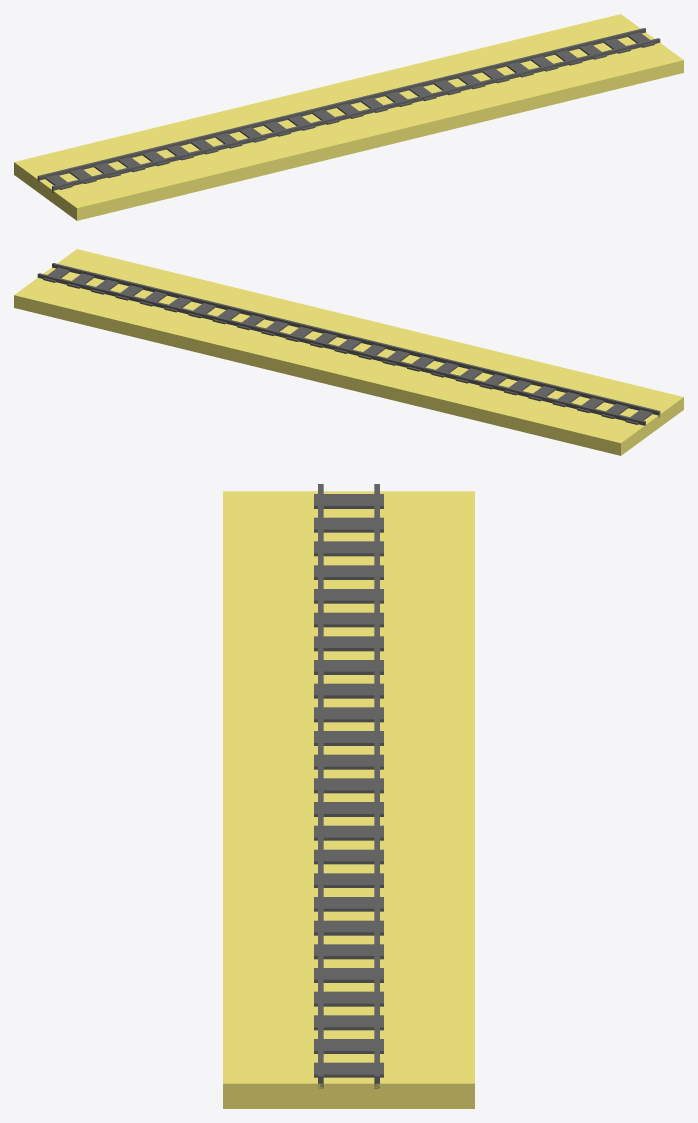
File: terrain1.glb
3 renders of one model, top to bottom at view 1: azimuth 30°, elevation 25°; view 2: azimuth 150°, elevation 25°; view 3: azimuth 270°, elevation 25°, orthographic. The views are drawn at different scales.
Visible parts, largest first — view 1: Ground1, Rail1; view 2: Ground1, Rail1; view 3: Ground1, Rail1.
Part boxes in pixels (x1=…): Ground1: x1=14, y1=14, x2=683, y2=220; Rail1: x1=37, y1=28, x2=660, y2=193; Ground1: x1=14, y1=249, x2=683, y2=455; Rail1: x1=37, y1=263, x2=660, y2=425; Ground1: x1=223, y1=491, x2=474, y2=1108; Rail1: x1=314, y1=484, x2=383, y2=1088.
Bounding box in the file's own units: 50 × 1.28 × 9.
